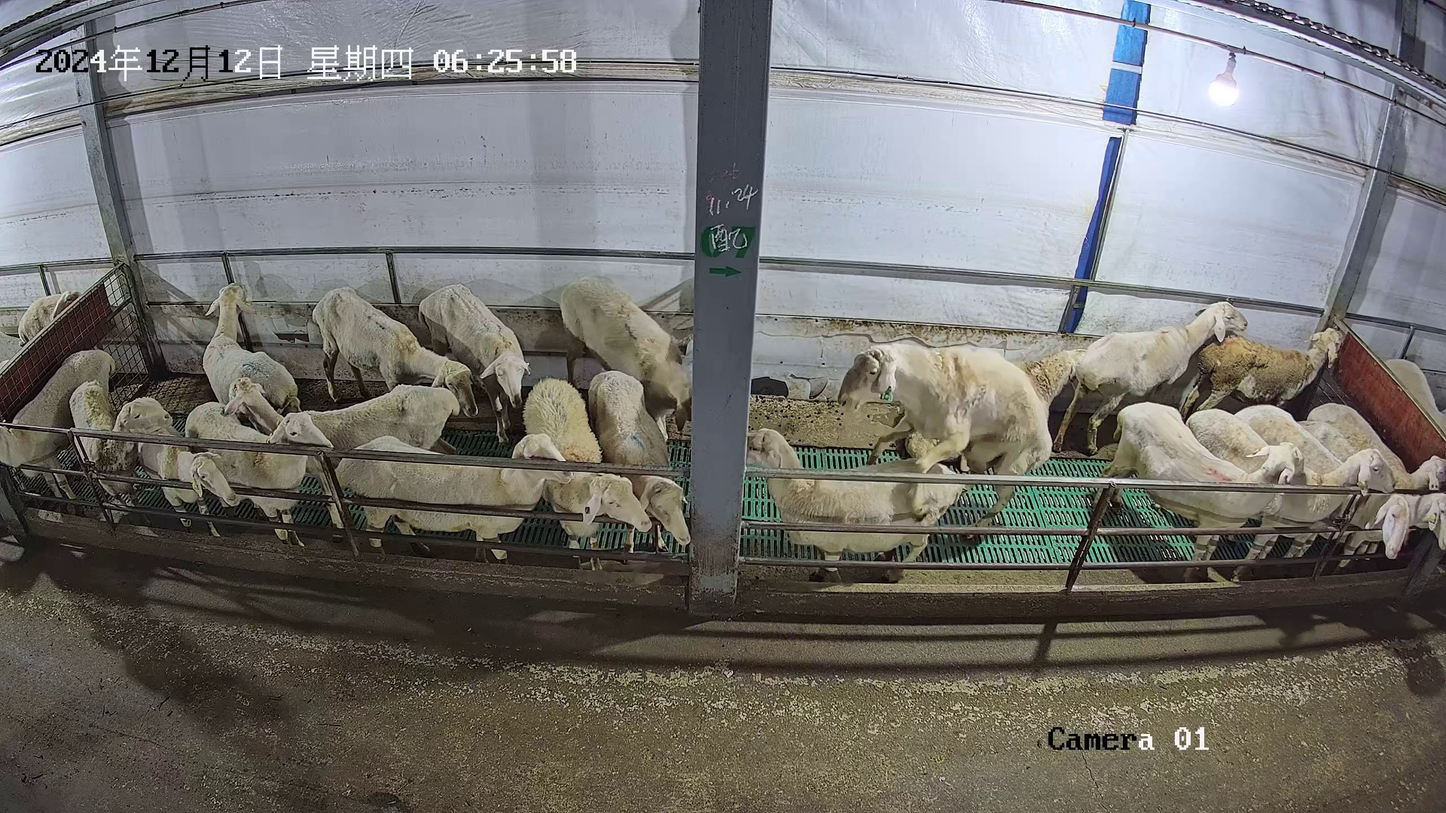Smounting: (741, 340, 1056, 588)
mounted: (745, 427, 959, 584)
